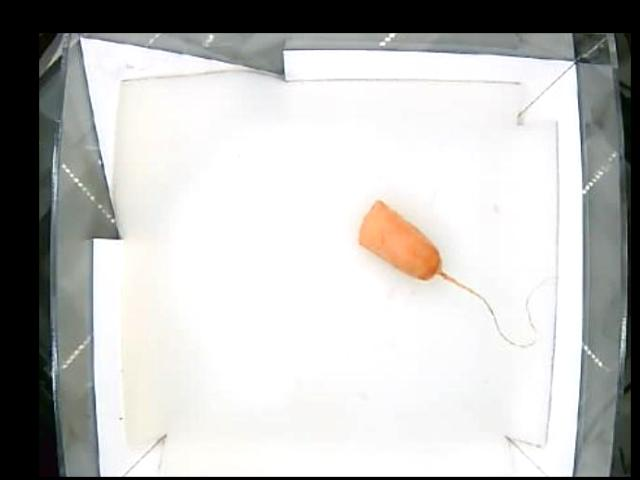Carrot: (355, 199, 444, 285)
